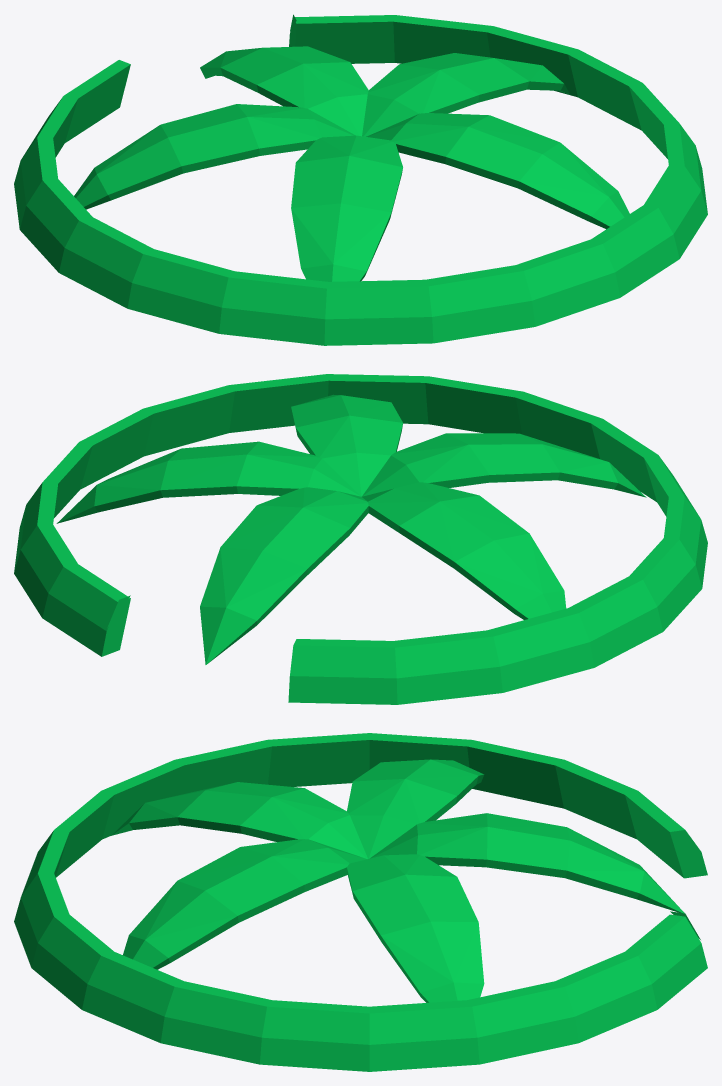
Rendered from tree_ring_open.fbx.
3 renders of one model, top to bottom at view 1: azimuth 30°, elevation 25°; view 2: azimuth 150°, elevation 25°; view 3: azimuth 270°, elevation 25°, orthographic.
Visible parts, largest first — view 1: tree_ring_open; view 2: tree_ring_open; view 3: tree_ring_open.
Boxes of the visible parts, x1,y1,x2,y2 form: tree_ring_open: [14, 14, 707, 345]; tree_ring_open: [14, 374, 707, 704]; tree_ring_open: [14, 733, 707, 1071].
Size of the model in its own units: 20000 by 2943 by 19511.
